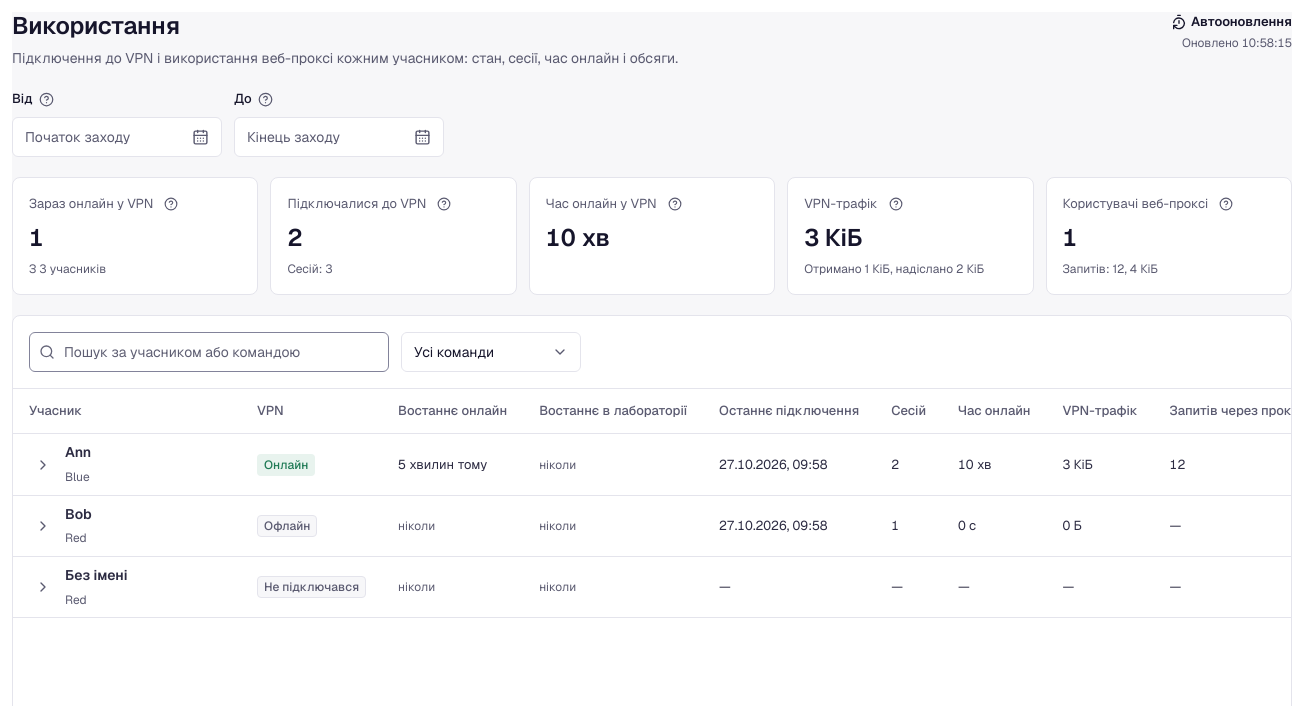
Test: Використання › opens the sessions and task access of a participant
Expected: the table is shown, [13, 389, 1291, 618]
Expected: the text "Web login" is not shown
Click the button named "Подробиці: Ann" at (43, 465), box [29, 451, 57, 479]
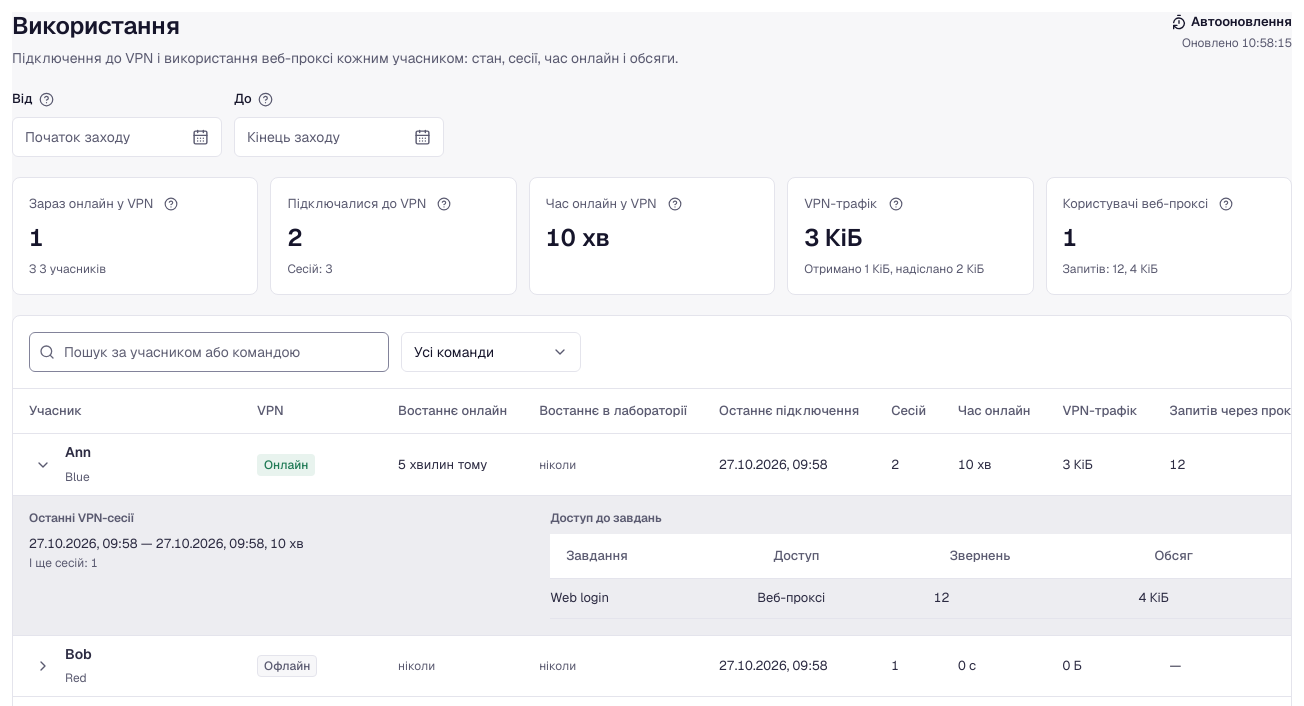
Expected: the text "Web login" is shown, [550, 578, 757, 618]
Expected: the text "Веб-проксі" is shown, [757, 578, 934, 618]
Expected: the heading "Останні VPN-сесії" is shown, [29, 510, 134, 526]
